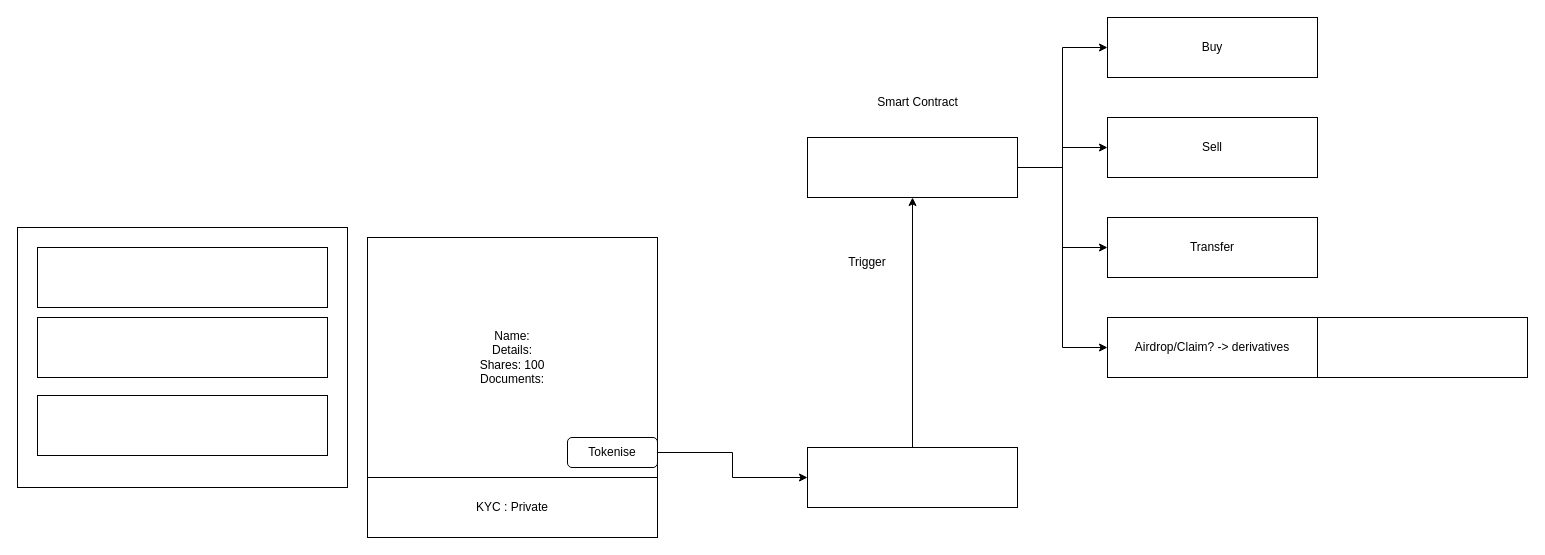
The diagram is 1545 pixels wide and 555 high, and some of its shapes have lost their labels. Here are the shapes that lost their labels. From the top down, the centre of each, then its label:
the point at 912,167: Shares:Tokens
the point at 1422,347: Nominee
the point at 912,477: did : Public
